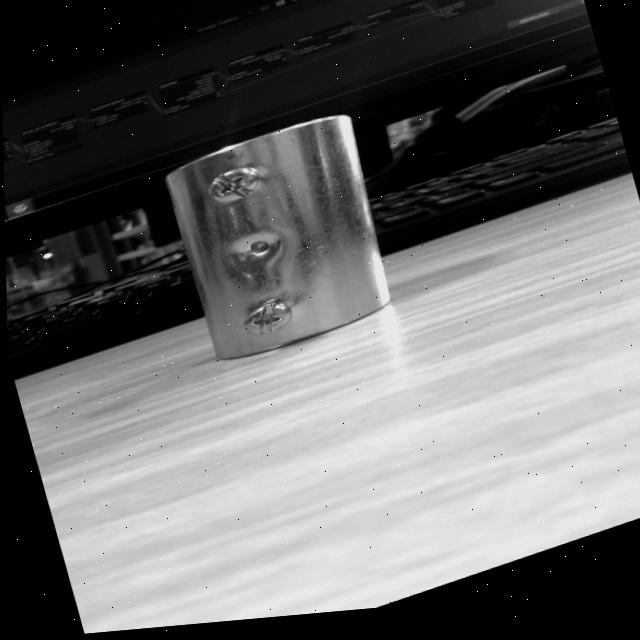Co_Nho: (160, 109, 406, 365)
